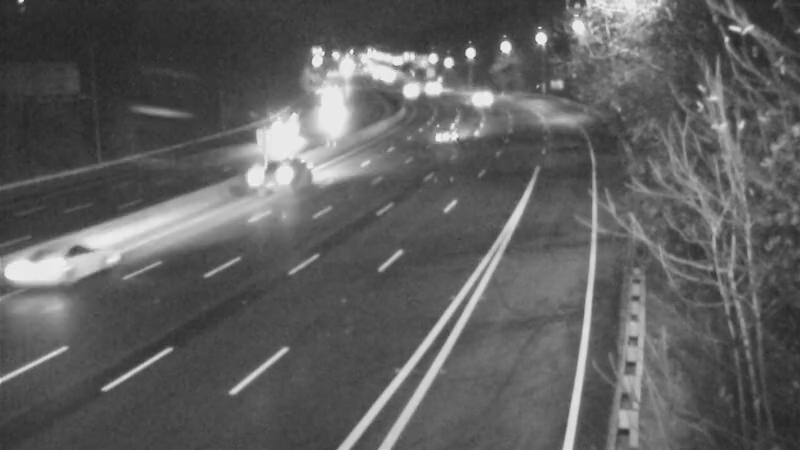vehicle: (231, 134, 311, 214), (7, 228, 87, 308), (380, 65, 430, 115), (407, 63, 457, 113), (452, 72, 502, 122), (421, 110, 471, 160), (263, 101, 313, 151)
